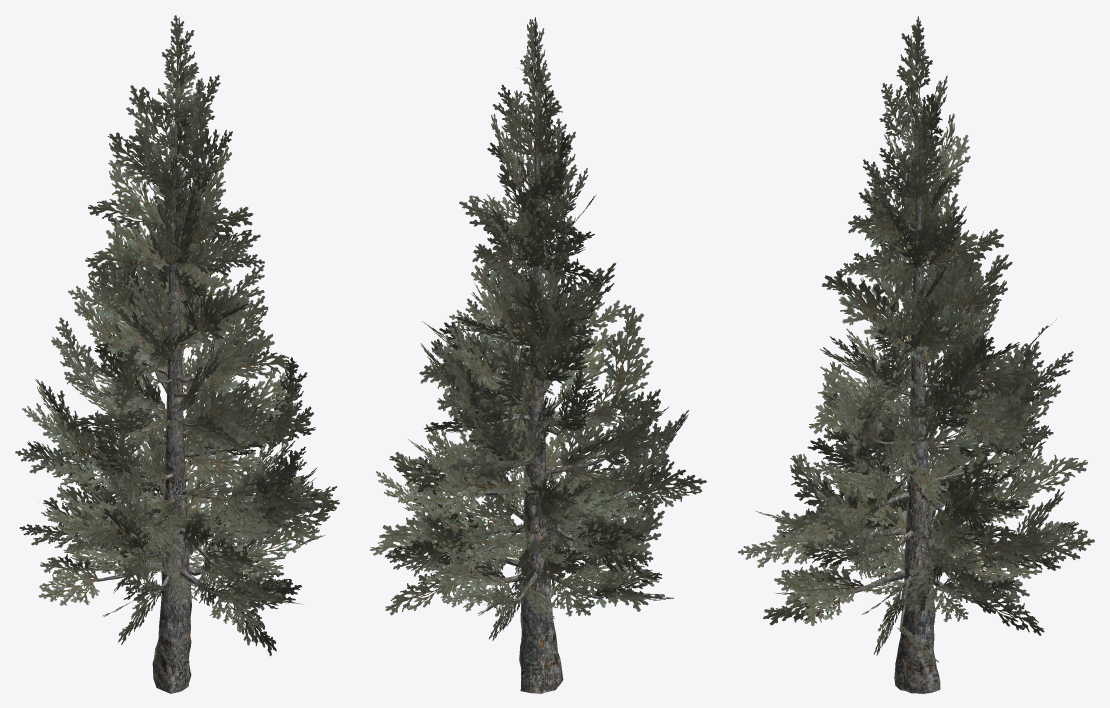
Rendered from s_spruce.glb.
3 renders of one model, left to right at view 1: azimuth 30°, elevation 25°; view 2: azimuth 150°, elevation 25°; view 3: azimuth 270°, elevation 25°, orthographic.
Parts seen in each view (by area): view 1: Spruce_LOD0_M_Branch.001_0, Spruce_LOD0_M_Bark.001_0; view 2: Spruce_LOD0_M_Branch.001_0, Spruce_LOD0_M_Bark.001_0; view 3: Spruce_LOD0_M_Branch.001_0, Spruce_LOD0_M_Bark.001_0.
Boxes of the visible parts, box(x1,y1,x2,y2) form: Spruce_LOD0_M_Branch.001_0: box(15, 15, 339, 656); Spruce_LOD0_M_Bark.001_0: box(85, 99, 284, 693); Spruce_LOD0_M_Branch.001_0: box(370, 17, 706, 640); Spruce_LOD0_M_Bark.001_0: box(444, 90, 650, 693); Spruce_LOD0_M_Branch.001_0: box(738, 16, 1094, 662); Spruce_LOD0_M_Bark.001_0: box(794, 91, 1014, 693).
Bounding box in the file's own units: 8.1 × 17.42 × 8.42.
2 materials, 2 textured.
